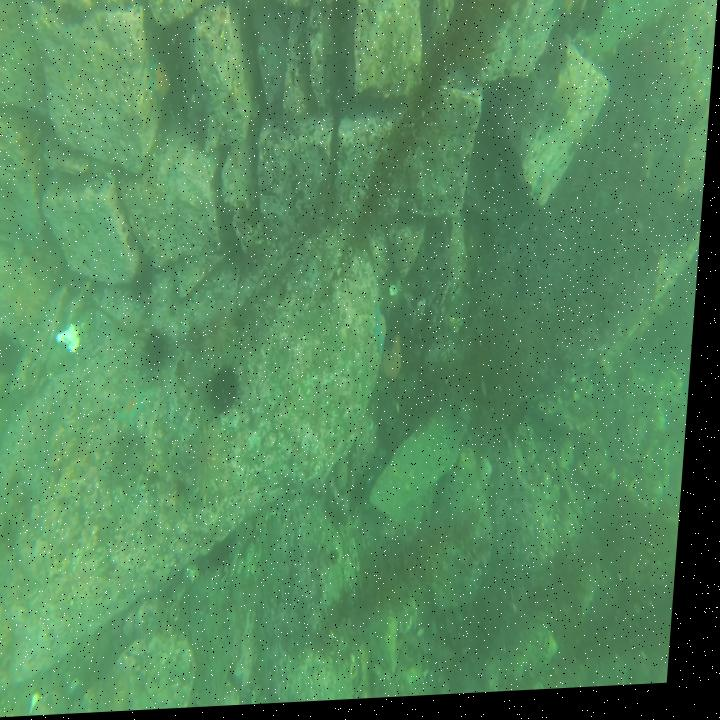echinus: (188, 422, 242, 508), (209, 360, 250, 421), (205, 307, 245, 361), (146, 320, 181, 376), (131, 256, 165, 311), (0, 328, 26, 375)
scallop: (59, 318, 89, 356)
starfish: (121, 383, 156, 437), (374, 304, 397, 368), (148, 56, 175, 109)
